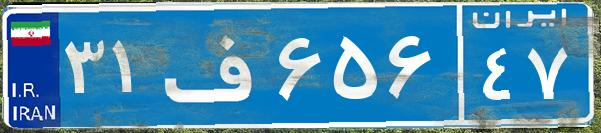1: (110, 28, 158, 105)
3: (57, 26, 110, 107)
4: (475, 38, 525, 113)
5: (330, 28, 385, 110)
6: (385, 28, 445, 110), (273, 28, 330, 110)
7: (525, 38, 570, 115)
ف: (158, 15, 273, 115)
